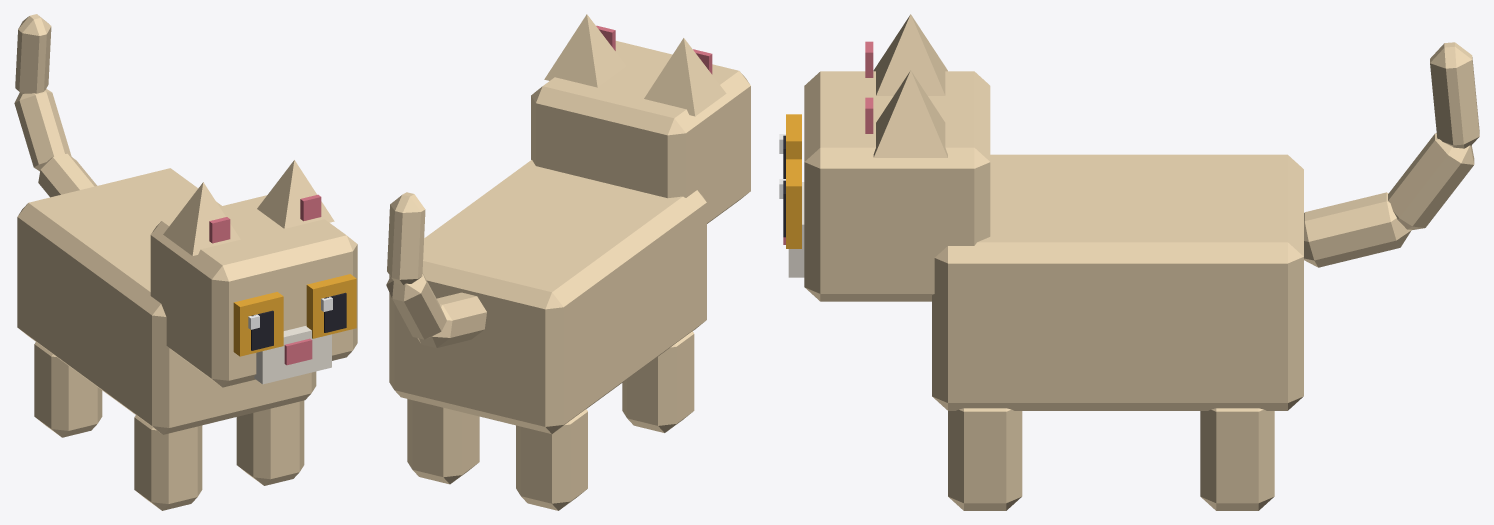
File: CatCafe_Cat_Cream.fbx
The picture shows the model from 3 angles, left to right: view 1: azimuth 30°, elevation 25°; view 2: azimuth 150°, elevation 25°; view 3: azimuth 270°, elevation 25°; orthographic projection. The views are drawn at different scales.
Parts seen in each view (by area): view 1: CatCafe_Cat_Cream_Body, CatCafe_Cat_Cream_Head, CatCafe_Cat_Cream_Tail; view 2: CatCafe_Cat_Cream_Body, CatCafe_Cat_Cream_Head, CatCafe_Cat_Cream_Tail; view 3: CatCafe_Cat_Cream_Body, CatCafe_Cat_Cream_Head, CatCafe_Cat_Cream_Tail.
Part boxes in pixels (x1,y1,x2,y2): CatCafe_Cat_Cream_Body: [17, 168, 316, 510]; CatCafe_Cat_Cream_Head: [150, 160, 357, 387]; CatCafe_Cat_Cream_Tail: [14, 14, 97, 197]; CatCafe_Cat_Cream_Body: [389, 160, 706, 510]; CatCafe_Cat_Cream_Head: [531, 14, 750, 223]; CatCafe_Cat_Cream_Tail: [386, 192, 486, 347]; CatCafe_Cat_Cream_Body: [932, 154, 1303, 510]; CatCafe_Cat_Cream_Head: [779, 14, 990, 301]; CatCafe_Cat_Cream_Tail: [1304, 42, 1479, 267].
Bounding box in the file's own units: 0.9 × 1.78 × 2.64.
1 material, 1 textured.
